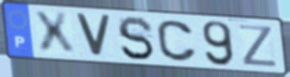9: (200, 19, 234, 68)
C: (155, 19, 199, 64)
S: (116, 15, 157, 63)
V: (73, 11, 114, 60)
X: (31, 10, 78, 56)
Z: (237, 23, 281, 69)
